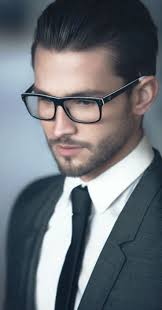Glasses: (17, 77, 134, 125)
